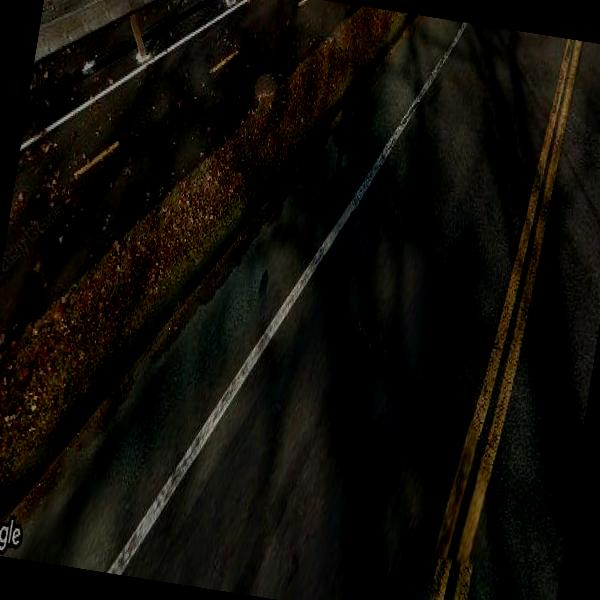manhole: (244, 62, 282, 114)
